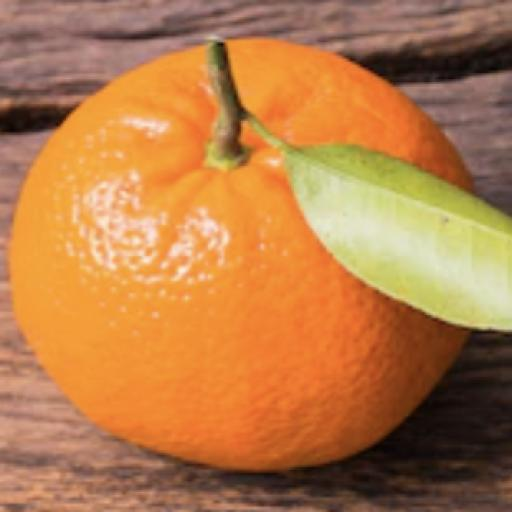orange: (10, 49, 467, 470)
